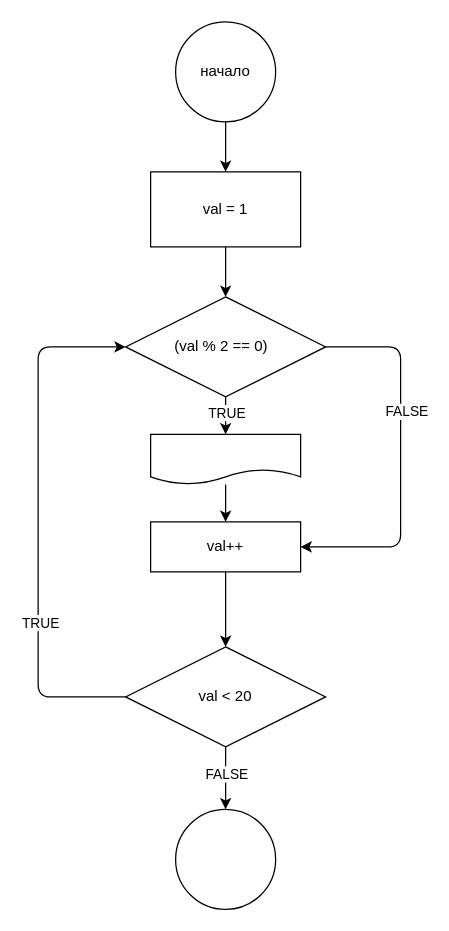
This 449x931 diagram has some shape labels left out. The centre of each missing label's shape, as x and y in pixels:
"val" belongs at (x=225, y=458).
"Конец" belongs at (x=225, y=858).
